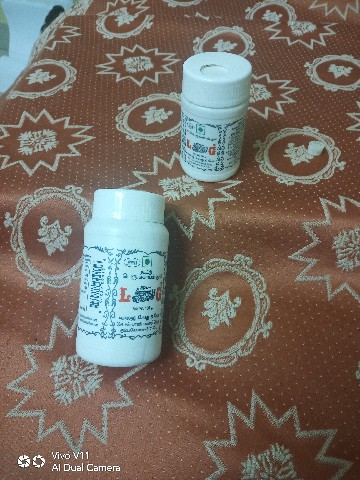lgasafoetidapowder large: (55, 185, 207, 383)
lgasafoetidapowder small: (170, 44, 256, 193)
